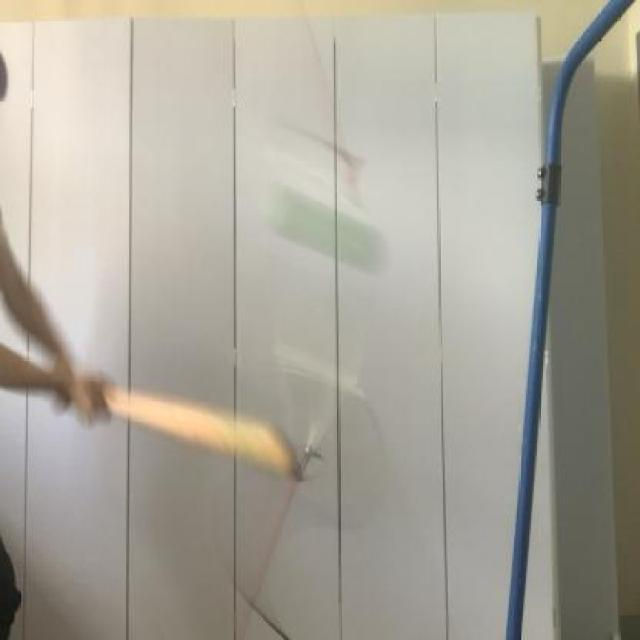baseball: (258, 168, 397, 284)
